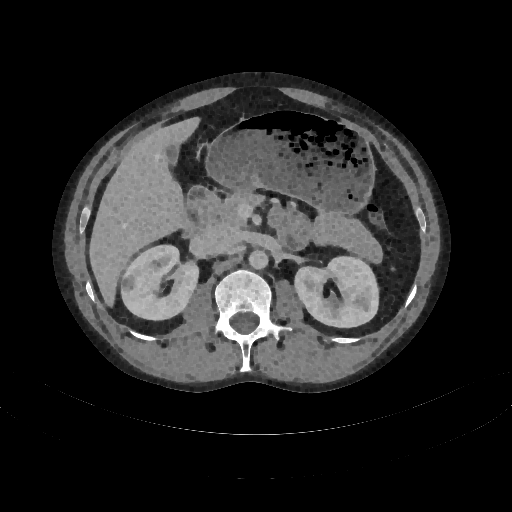Lesion: (117, 274, 137, 295)
